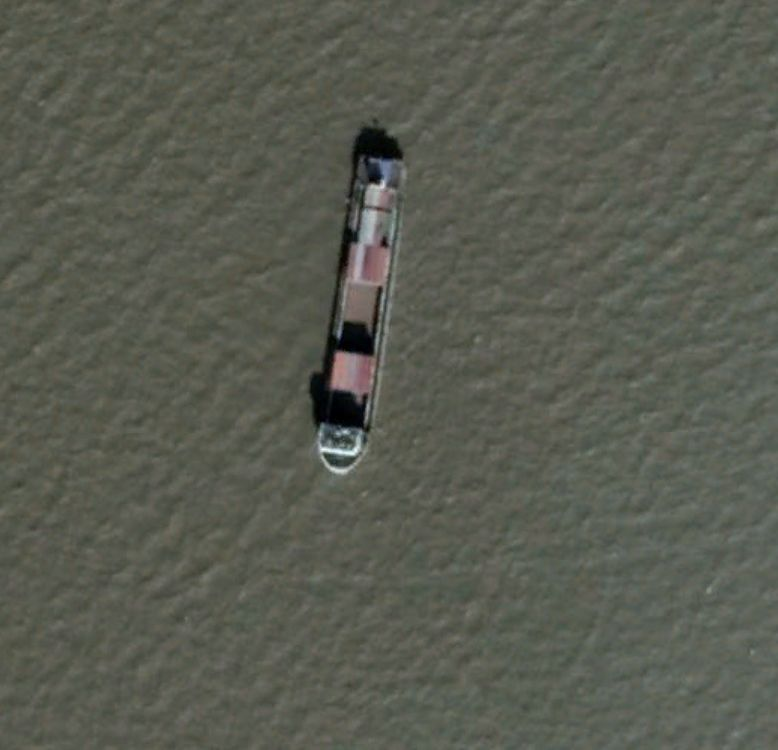boat: (314, 150, 411, 476)
